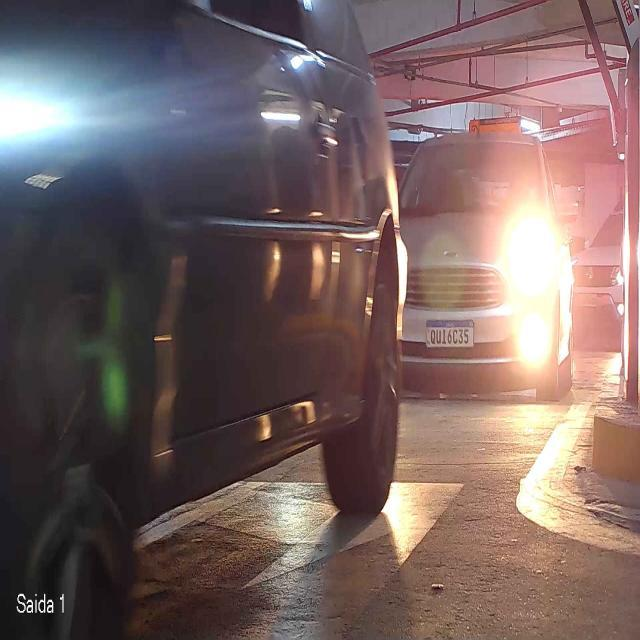mercosul_plate: (423, 318, 476, 348)
